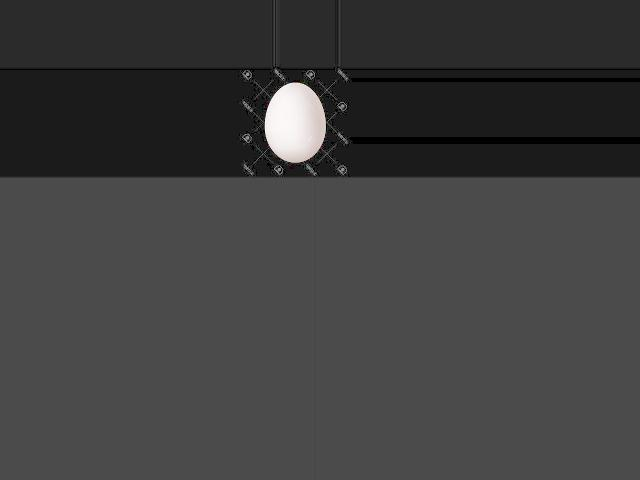egg: (264, 83, 324, 162)
